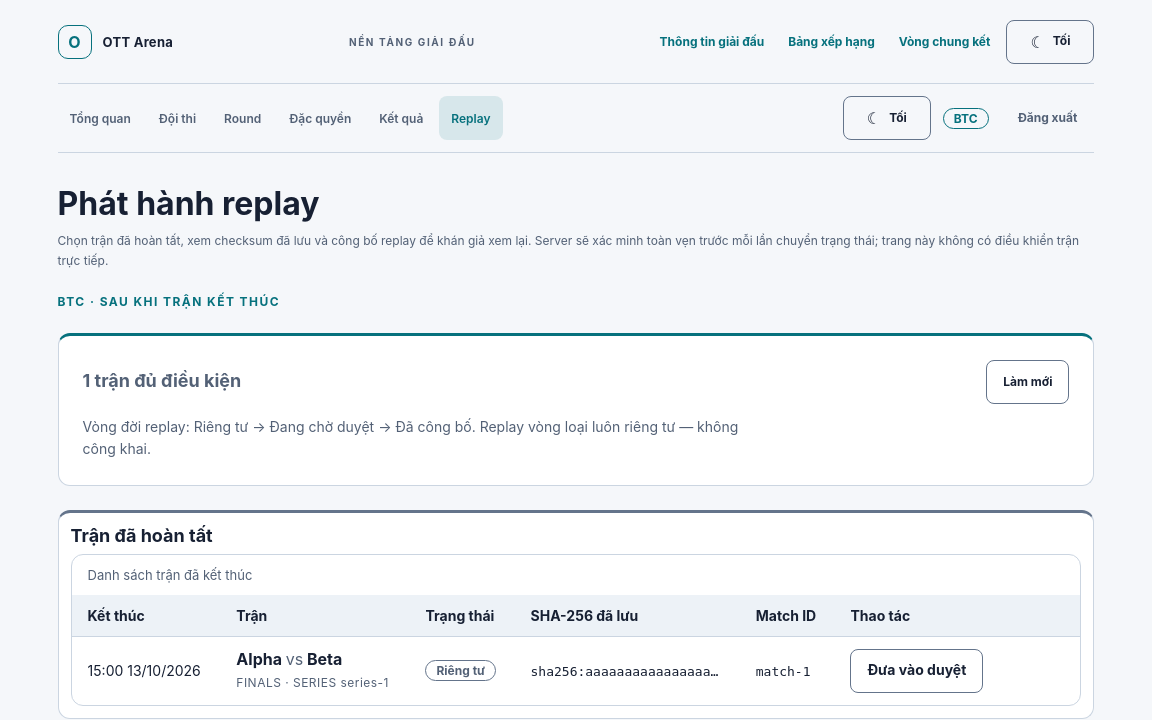
Scenario: BTC replay publication console › locks the transition while a request is pending so a rapid second click cannot duplicate it
Click the button "Đưa vào duyệt": (917,670) [850,648,983,692]
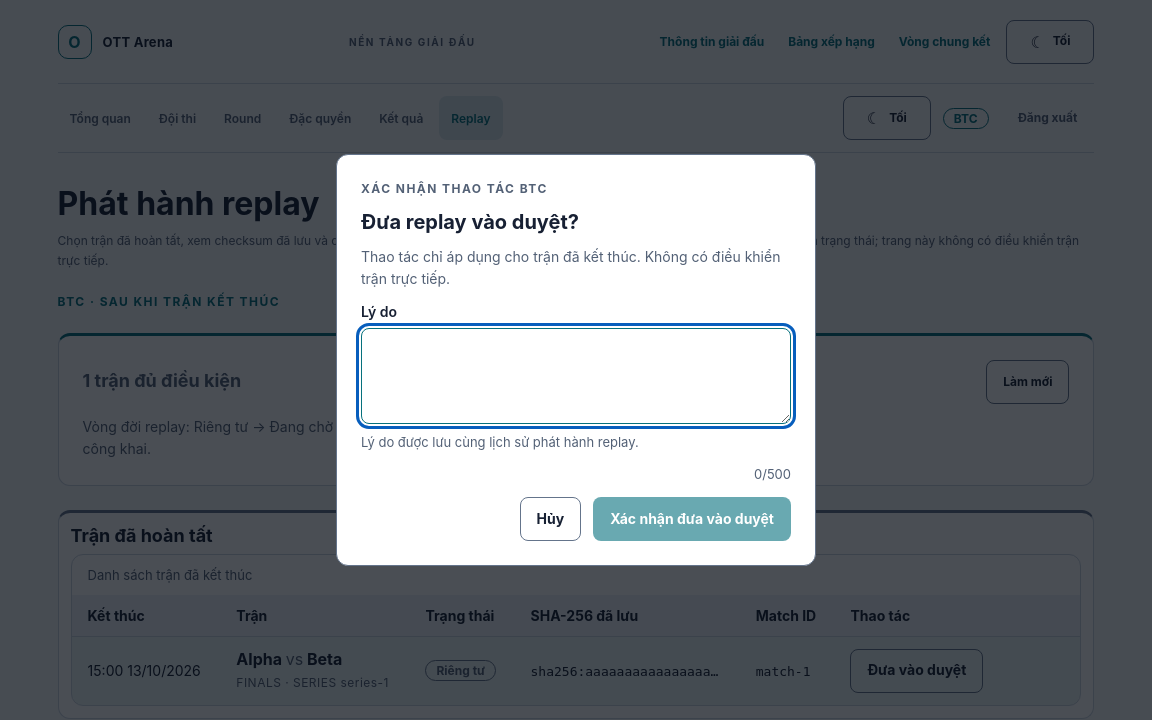
In the text box labelled "Lý do": (576,376) [361,328,791,424], type "BTC xác nhận replay"
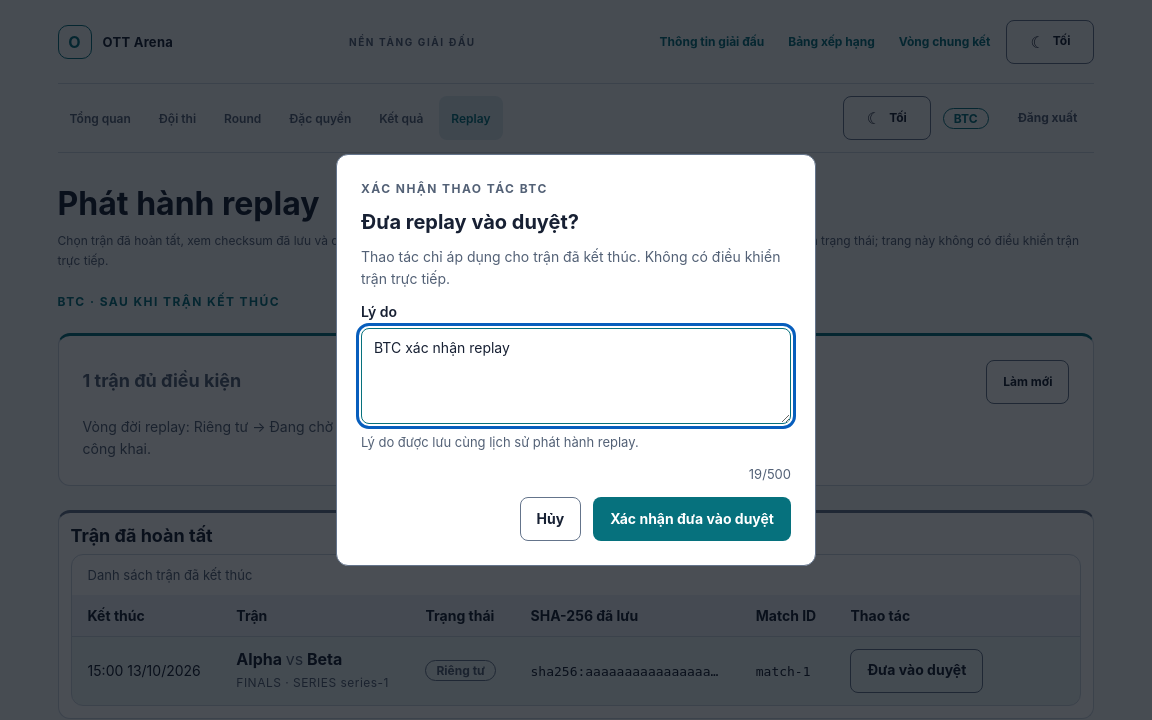
Click the button "Xác nhận đưa vào duyệt": (692,519) [593,497,791,541]
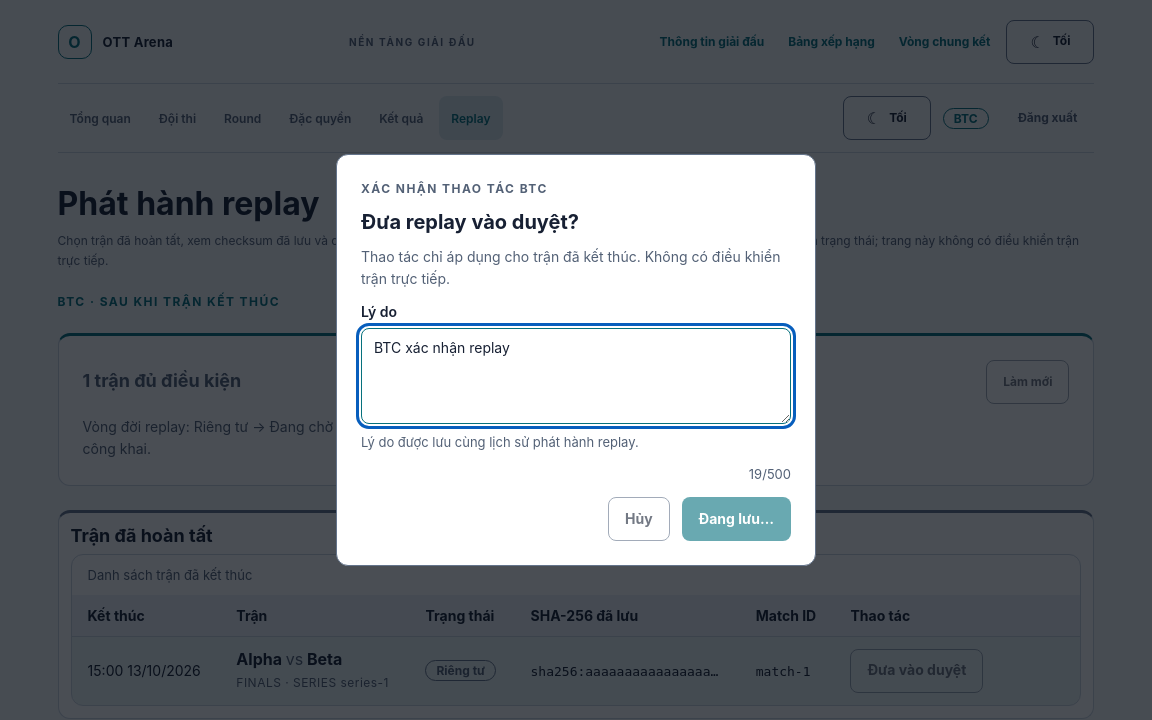
Click the button named "xác nhận đưa vào duyệt": (736,519) [682,497,791,541]
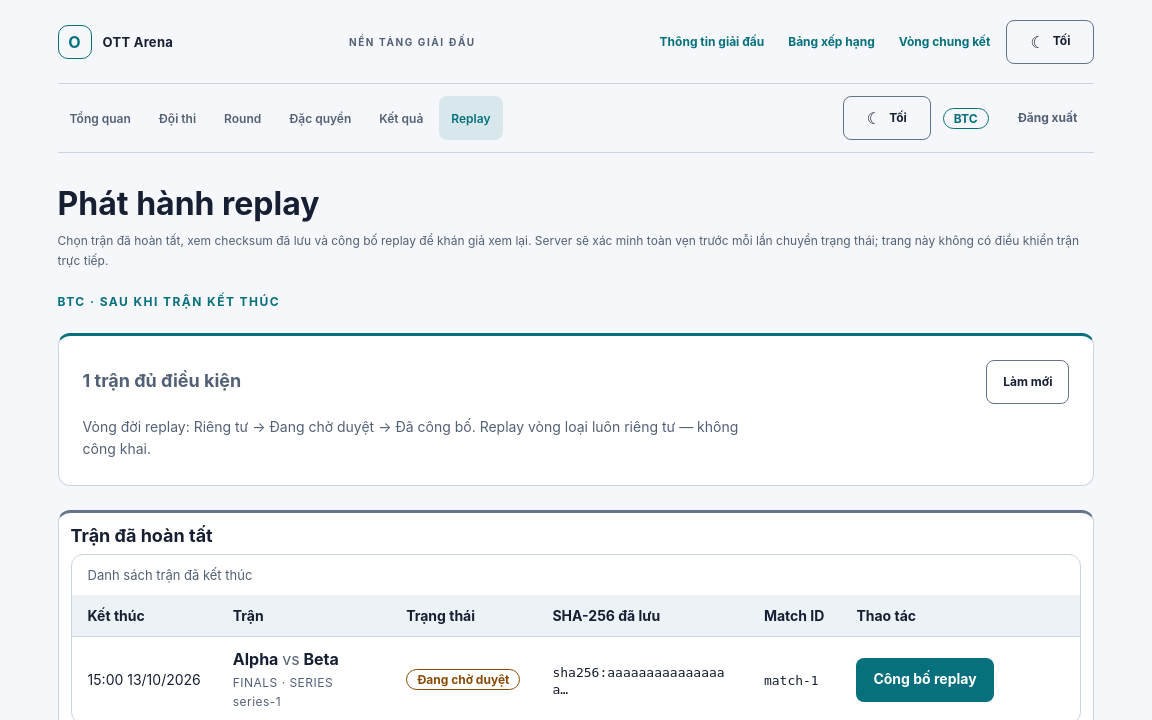
Result: the text "Đang chờ duyệt" is shown at [406,669,520,690]
